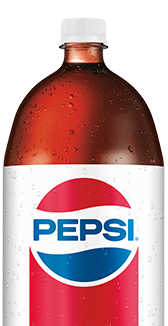pepsi: (33, 173, 134, 279), (33, 175, 134, 279)
